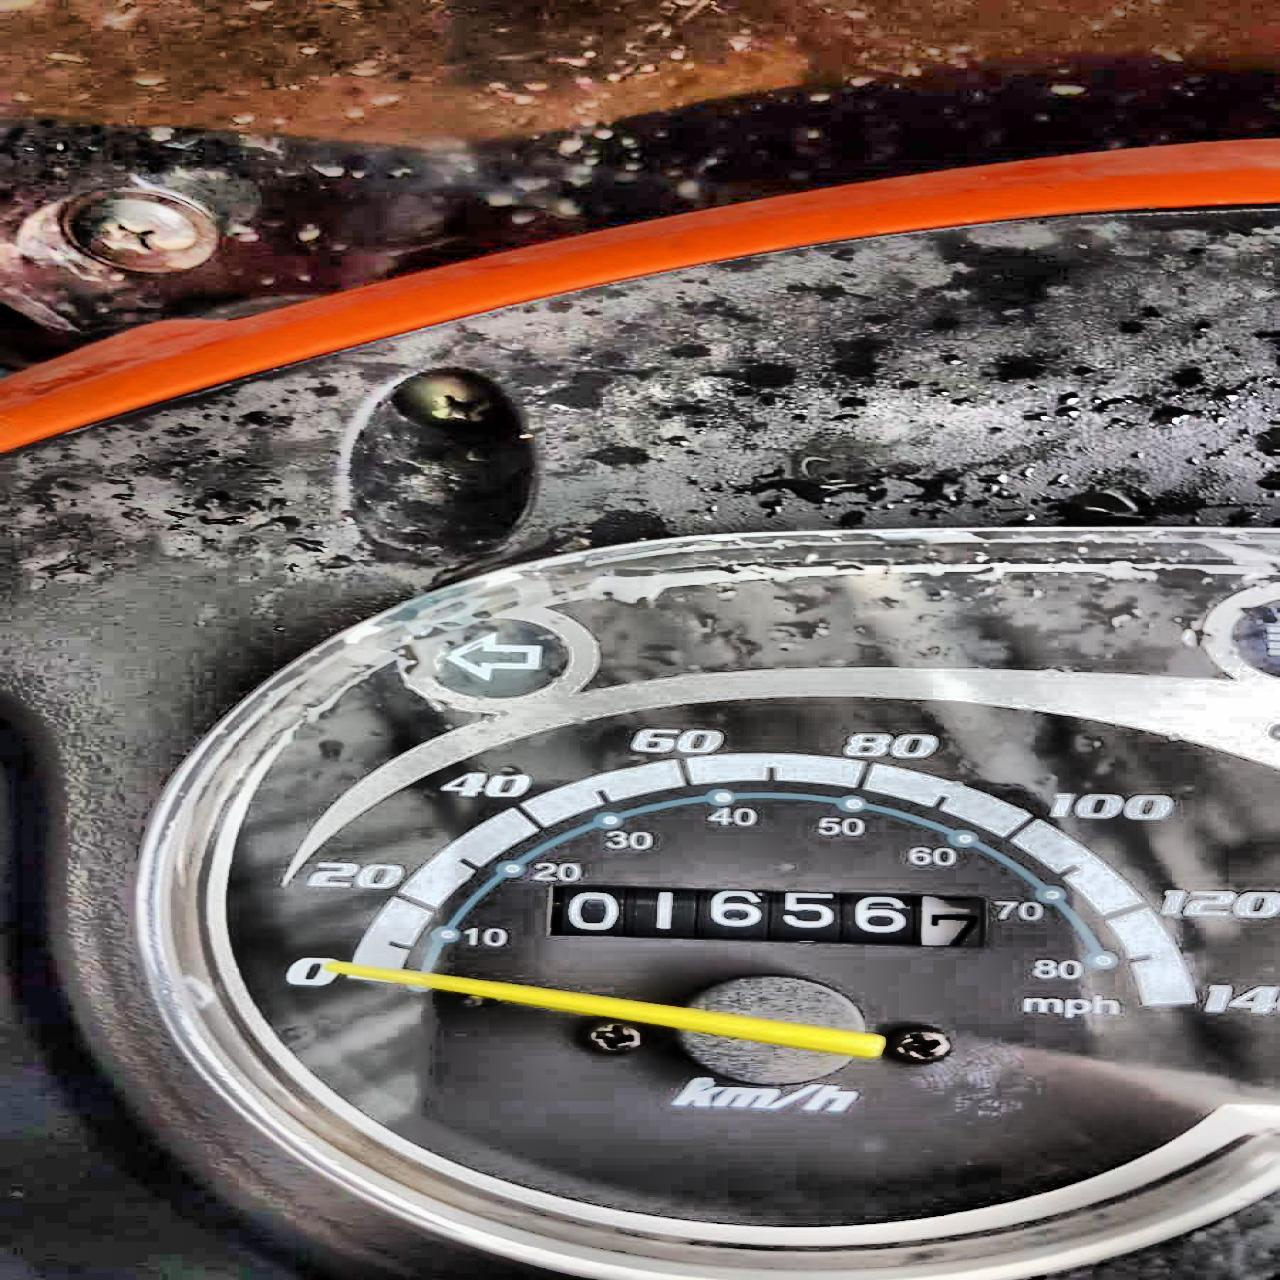0: (564, 890, 621, 931)
1: (646, 888, 680, 932)
5: (779, 890, 837, 930)
6: (847, 893, 912, 934), (703, 888, 765, 928)
7: (925, 912, 981, 946)
odometer: (536, 877, 989, 953)
